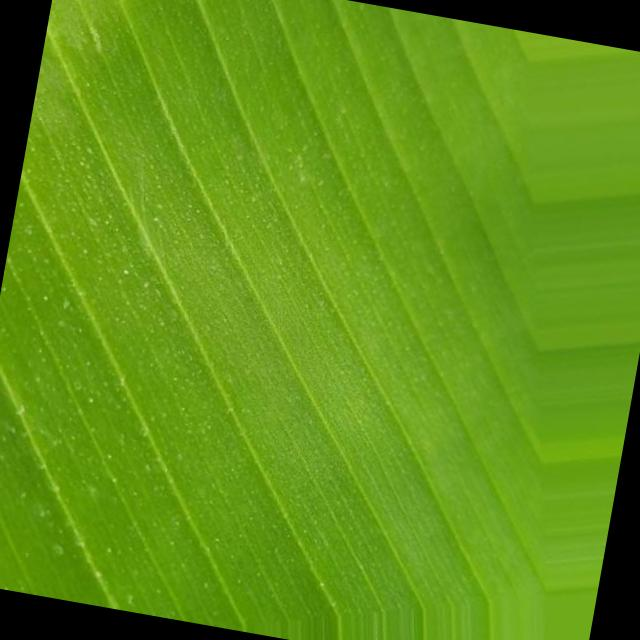Banana_Healthy: (1, 10, 508, 640)
